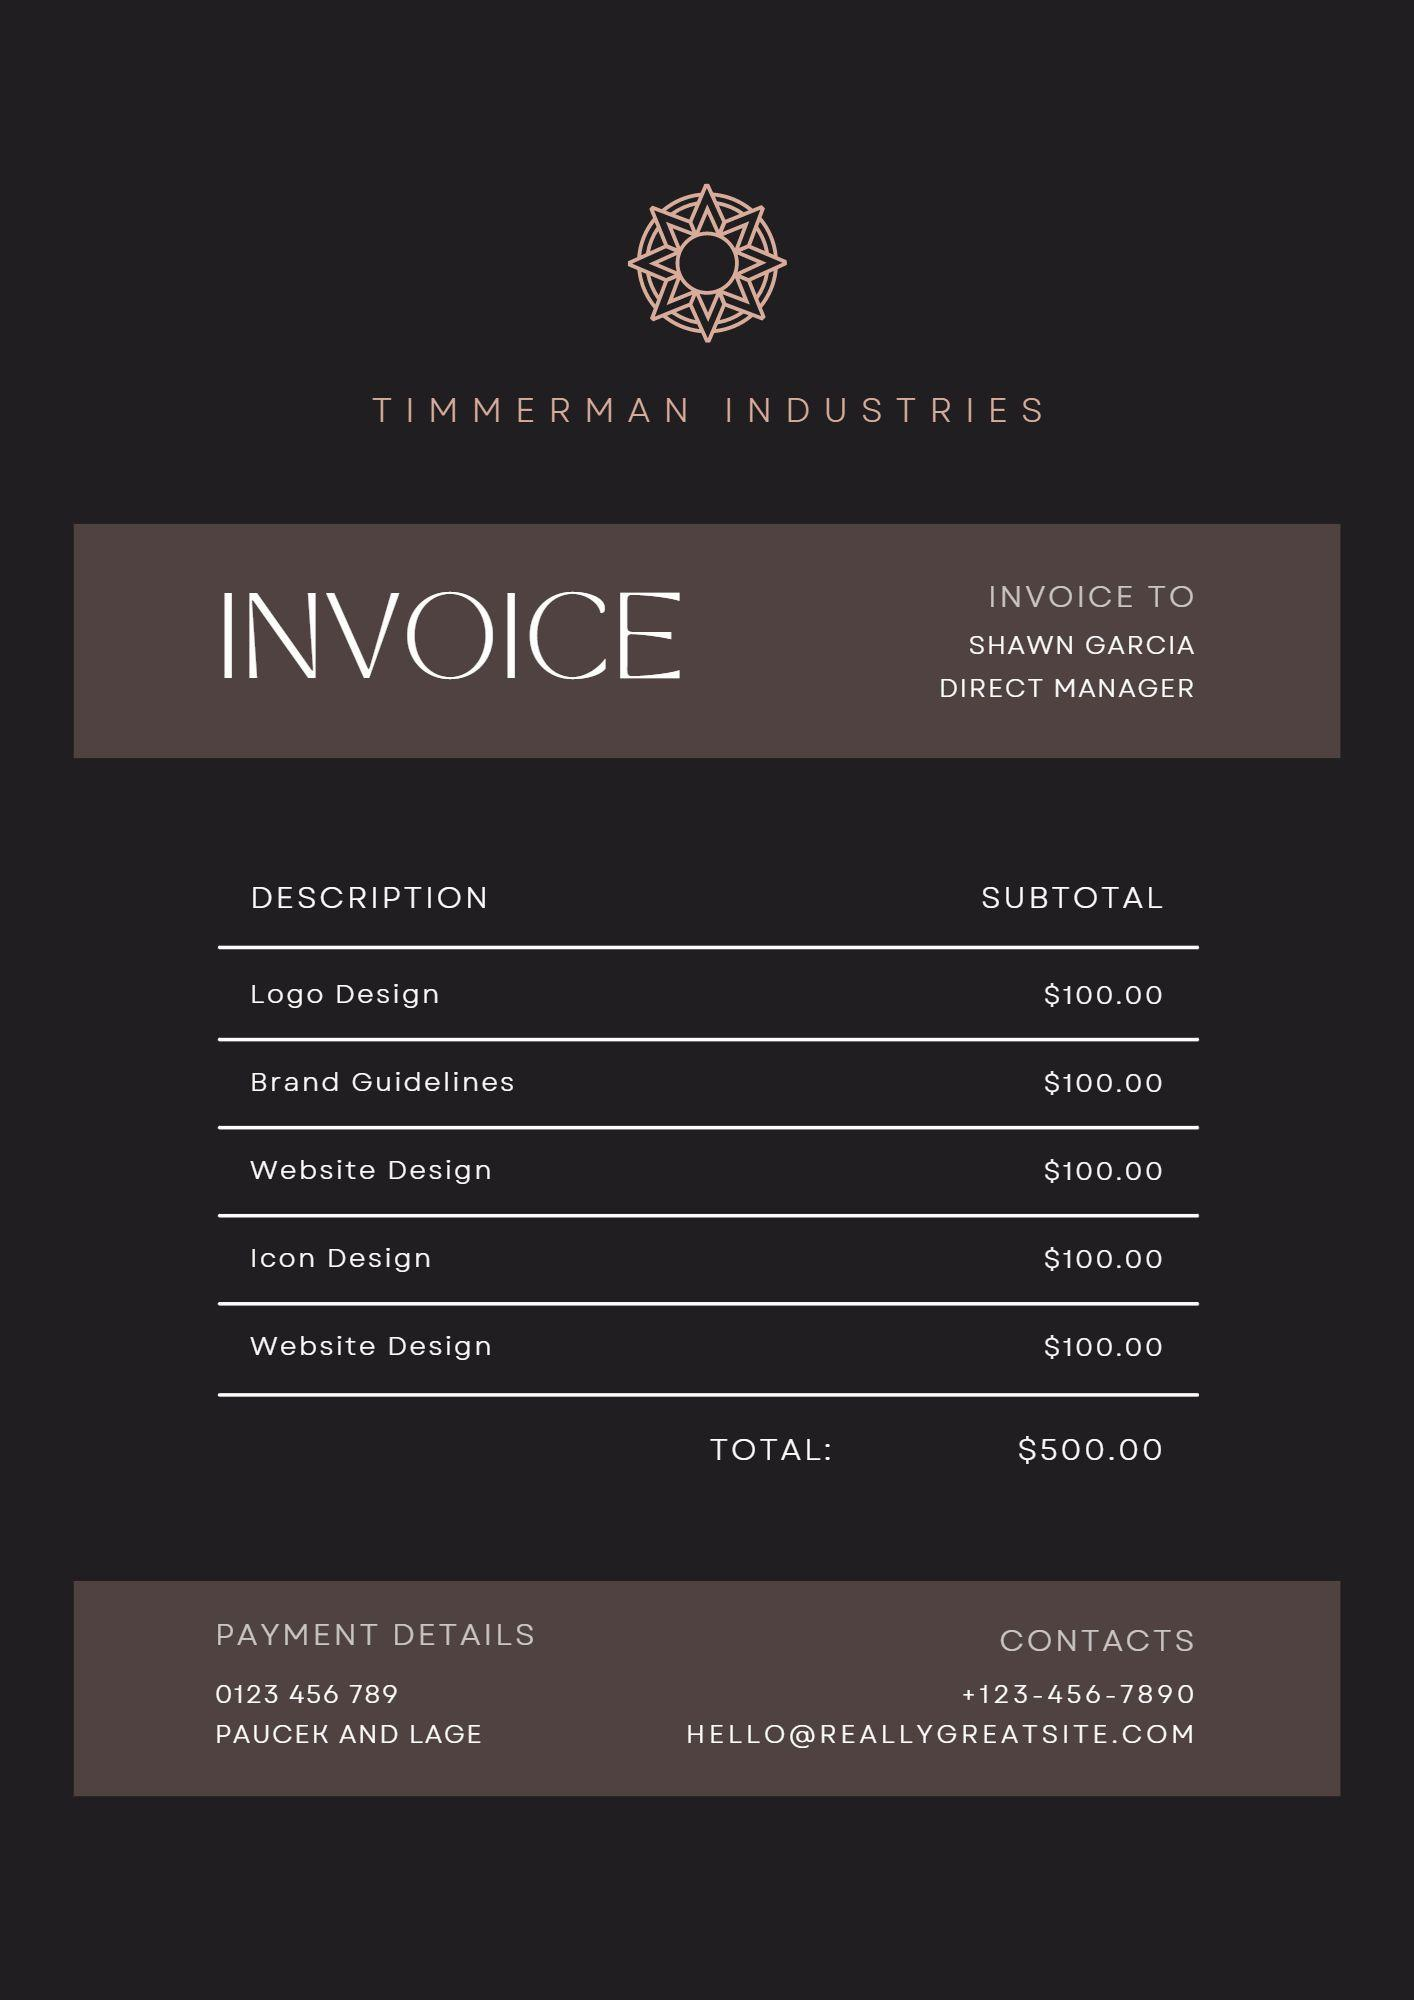ROI: (193, 852, 1220, 1412)
